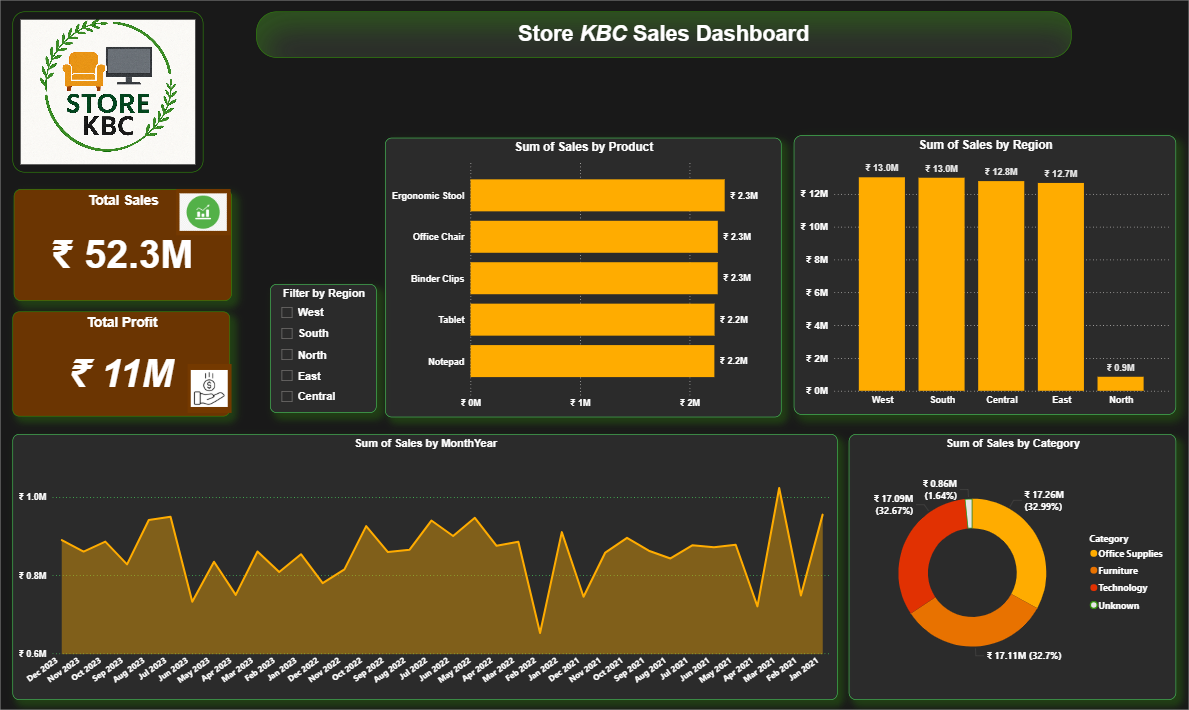

Layout of this report page (visuals, bound fields, positions):
{"tool":"powerbi","page":{"name":"Page 1","canvas":[1750,1047],"ordinal":0},"visuals":[{"type":"columnChart","fields":{"Category":["realistic_sales_with_products_15000.Region"],"Y":["Sum(realistic_sales_with_products_15000.Sales)"]},"box":[1167.5,201,562.6,411.3],"z":0},{"type":"lineChart","fields":{"Category":["realistic_sales_with_products_15000.MonthYear"],"Y":["Sum(realistic_sales_with_products_15000.Sales)"]},"box":[18.4,640,1213.6,391],"z":1000},{"type":"donutChart","fields":{"Category":["realistic_sales_with_products_15000.Category"],"Y":["Sum(realistic_sales_with_products_15000.Sales)"]},"box":[1248.7,640,481.4,391],"z":2000},{"type":"card","title":"Total Sales","fields":{"Values":["Sum(realistic_sales_with_products_15000.Sales)"]},"box":[20.9,278.9,320.6,165.1],"z":3000},{"type":"card","title":"Total Profit","fields":{"Values":["Sum(realistic_sales_with_products_15000.Profit)"]},"box":[19.3,459.3,320.3,154.4],"z":4000},{"type":"textbox","box":[377.5,19,1199,68.3],"z":5000},{"type":"image","box":[19,19,280.8,237.1],"z":6000},{"type":"barChart","title":"Sum of Sales by Product ","fields":{"Category":["realistic_sales_with_products_15000.Product Name"],"Y":["Sum(realistic_sales_with_products_15000.Sales)"]},"box":[566.2,204.7,582.8,411.3],"z":7000},{"type":"image","box":[259.9,278.9,79.7,68.3],"z":8000},{"type":"image","box":[275.1,536.9,64.5,72.1],"z":9000},{"type":"slicer","title":"Filter by Region","fields":{"Values":["realistic_sales_with_products_15000.Region"]},"box":[396.6,418.7,156.8,190],"z":10000}]}

Visuals, with their boxes in screenshot pixels (x1, y1, x2, y2), scaled from the page's 1750x1047 canvas onto the 1189x710 screenshot:
columnChart - realistic_sales_with_products_15000.Region x Sum(realistic_sales_with_products_15000.Sales): x1=793, y1=136, x2=1175, y2=415
lineChart - realistic_sales_with_products_15000.MonthYear x Sum(realistic_sales_with_products_15000.Sales): x1=13, y1=434, x2=837, y2=699
donutChart - realistic_sales_with_products_15000.Category x Sum(realistic_sales_with_products_15000.Sales): x1=848, y1=434, x2=1175, y2=699
"Total Sales" card: x1=14, y1=189, x2=232, y2=301
"Total Profit" card: x1=13, y1=311, x2=231, y2=416
textbox: x1=256, y1=13, x2=1071, y2=59
image: x1=13, y1=13, x2=204, y2=174
"Sum of Sales by Product " barChart: x1=385, y1=139, x2=781, y2=418
image: x1=177, y1=189, x2=231, y2=235
image: x1=187, y1=364, x2=231, y2=413
"Filter by Region" slicer: x1=269, y1=284, x2=376, y2=413
